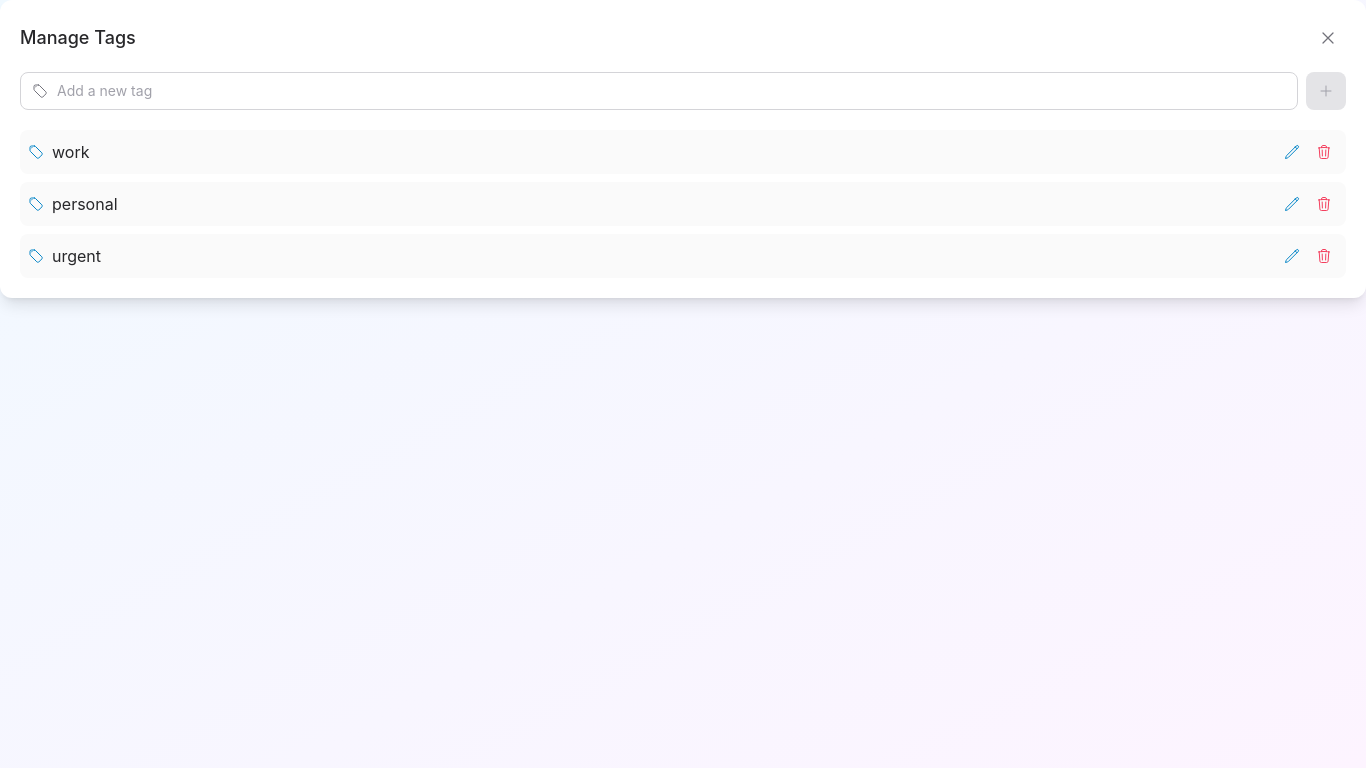
Test: TagManager Component › cancels editing when cancel button is clicked
Note: Start editing
Click the button with test id "edit-tag-work" at (1292, 152), box 1278,138 -> 1306,166
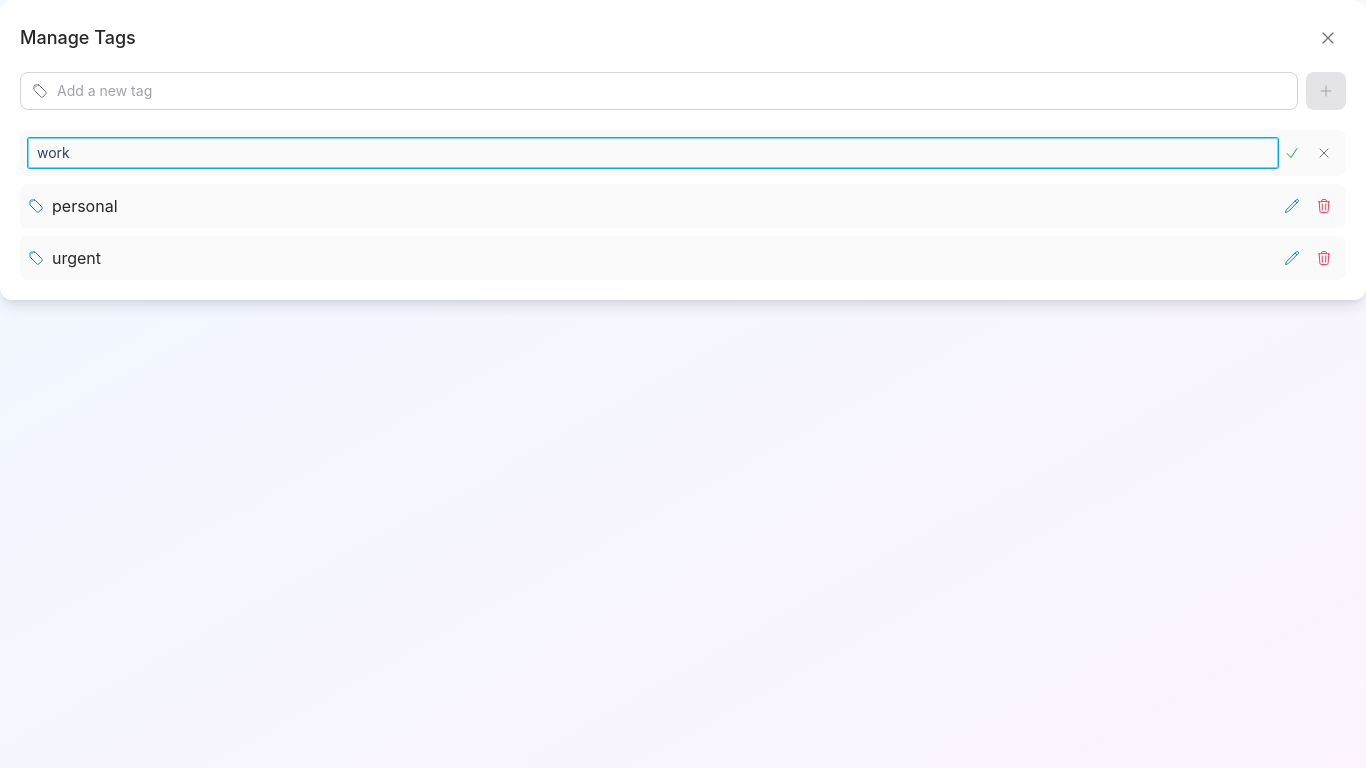
Note: Cancel editing
Click the button with test id "cancel-tag-edit" at (1324, 153), box 1310,139 -> 1338,167
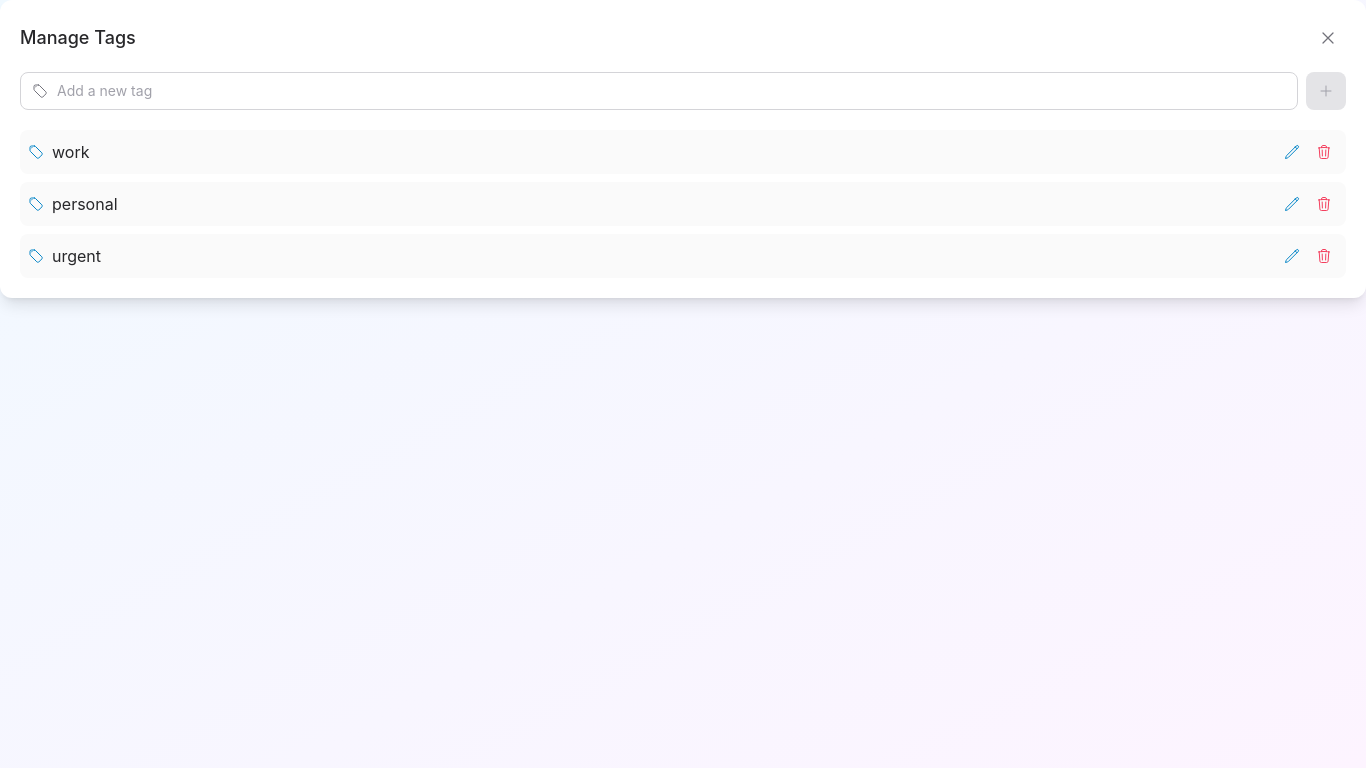
expect the field with test id "edit-tag-input" is gone: met
